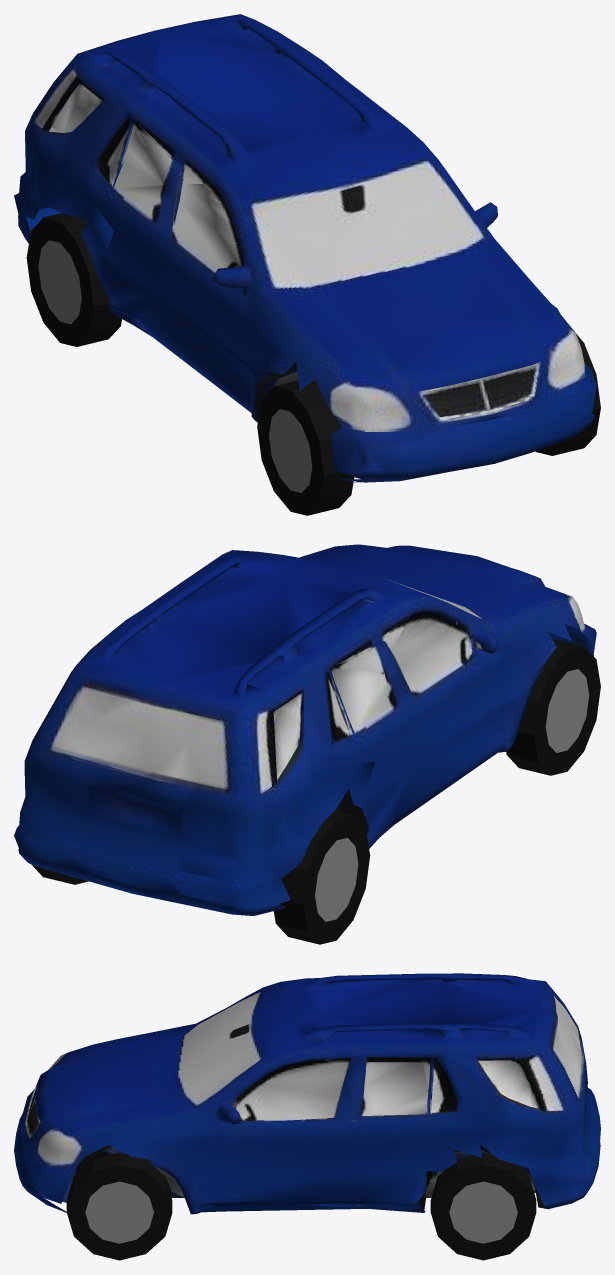
The model's file is suv.glb.
3 views of the same model, one above another, from view 1: azimuth 30°, elevation 25°; view 2: azimuth 150°, elevation 25°; view 3: azimuth 270°, elevation 25° (orthographic). The views are drawn at different scales.
Parts seen in each view (by area): view 1: suv, wheel_fr, wheel_rr, wheel_fl; view 2: suv, wheel_rr, wheel_fr; view 3: suv, wheel_fl, wheel_rl.
Part boxes in pixels (x1,y1,x2,y2): suv: (14, 14, 596, 482); wheel_fr: (257, 380, 354, 515); wheel_rr: (26, 213, 121, 346); wheel_fl: (535, 326, 600, 455); suv: (14, 544, 596, 915); wheel_rr: (273, 810, 370, 944); wheel_fr: (506, 638, 600, 775); suv: (14, 973, 600, 1214); wheel_fl: (66, 1152, 172, 1260); wheel_rl: (430, 1152, 536, 1260).
Bounding box in the file's own units: 2.08 × 1.83 × 4.7.
Materials: 1 (1 with a texture image).
